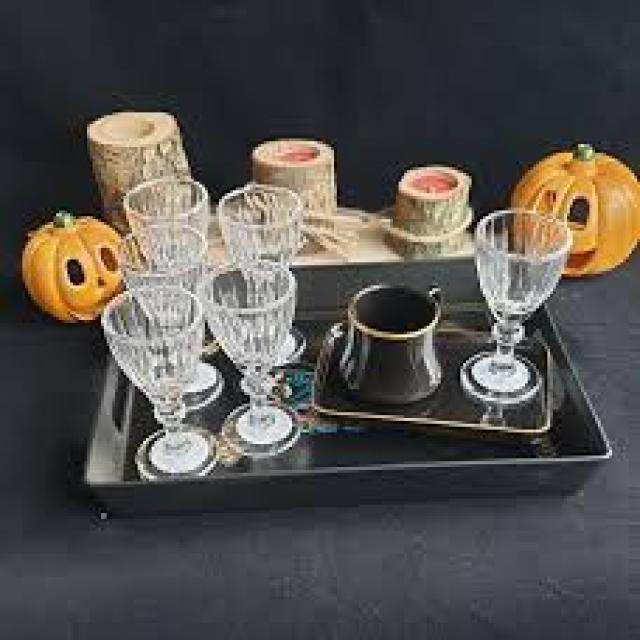Dry: (98, 284, 224, 482), (332, 276, 452, 411)
